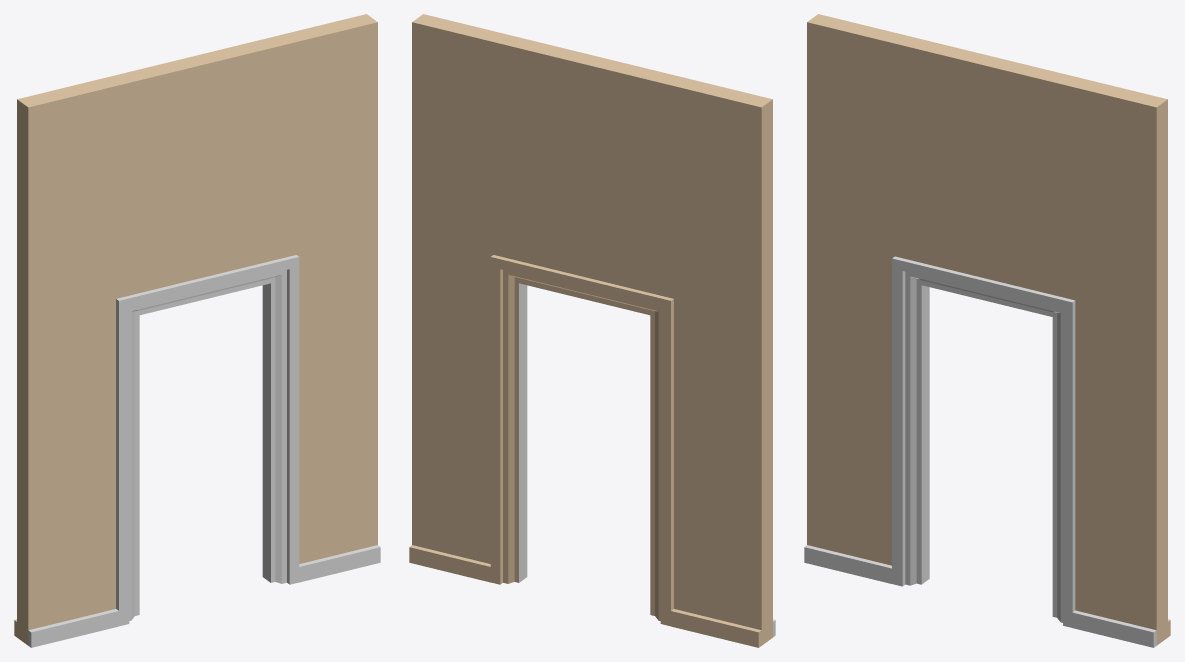
File: DoorFrame.fbx
3 renders of one model, left to right at view 1: azimuth 30°, elevation 25°; view 2: azimuth 150°, elevation 25°; view 3: azimuth 330°, elevation 25°, orthographic.
Visible parts, largest first — view 1: pCube41; view 2: pCube41; view 3: pCube41.
Boxes of the visible parts, x1,y1,x2,y2 form: pCube41: [14, 14, 380, 647]; pCube41: [409, 14, 775, 647]; pCube41: [804, 14, 1170, 647].
Size of the model in its own units: 362 by 533 by 30.54.
